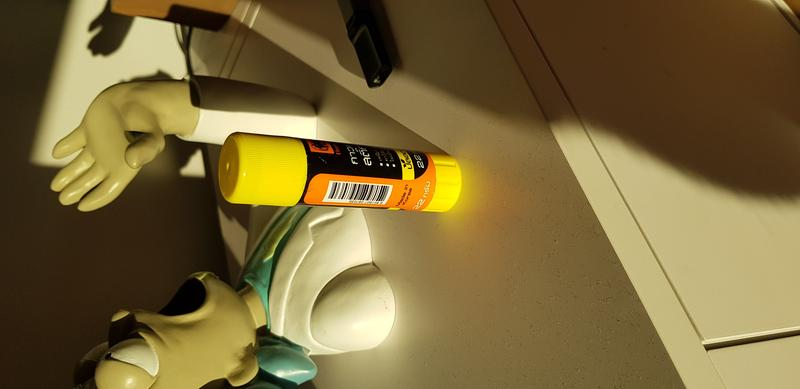Glue-Stick: (205, 130, 466, 218)
